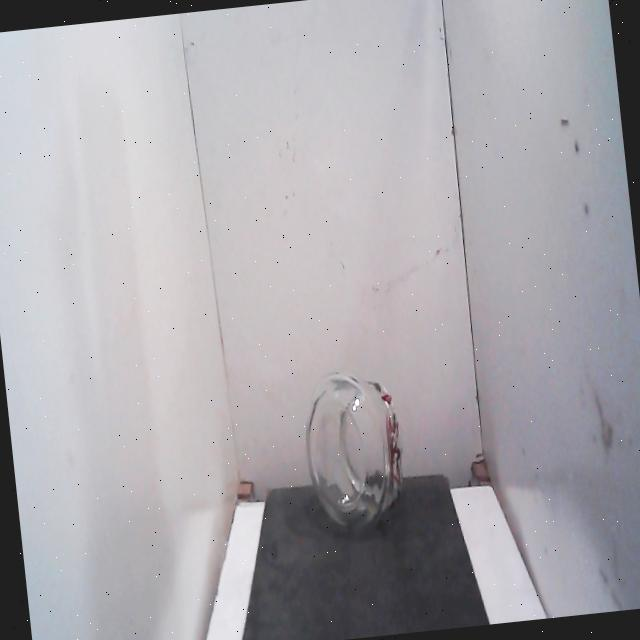vidro: (289, 362, 416, 554)
